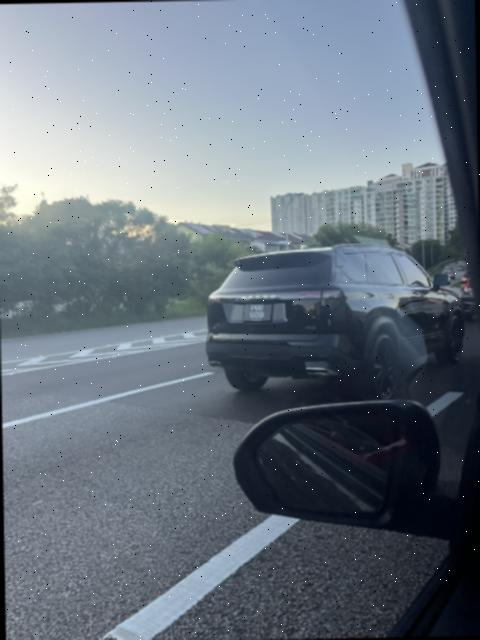License_Plate: (237, 300, 280, 325)
car: (192, 224, 457, 402)
